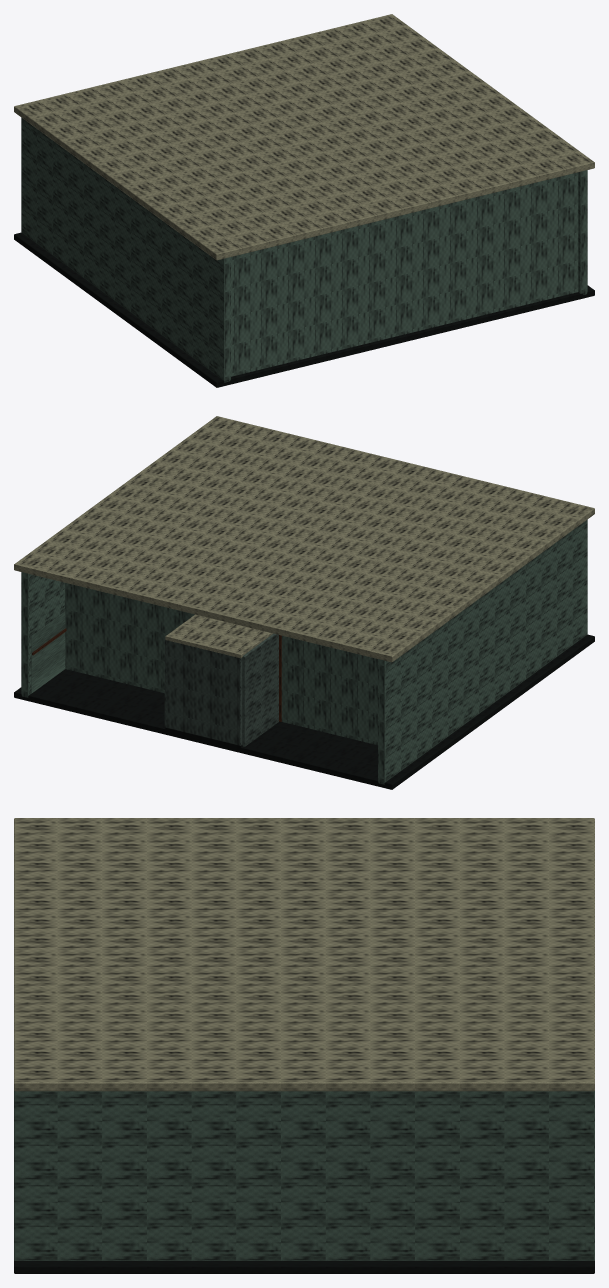
The model's file is entrance-lobby.glb.
The picture shows the model from 3 angles, top to bottom: view 1: azimuth 30°, elevation 25°; view 2: azimuth 150°, elevation 25°; view 3: azimuth 270°, elevation 25°; orthographic projection. The views are drawn at different scales.
Parts seen in each view (by area): view 1: static-152-asylum plaster, static-58-asylum paint, static-163-asylum dark; view 2: static-152-asylum plaster, static-58-asylum paint, static-163-asylum dark, static-17-asylum metal; view 3: static-152-asylum plaster, static-58-asylum paint, static-163-asylum dark.
Part boxes in pixels (x1,y1,x2,y2): static-152-asylum plaster: (14, 14, 594, 260); static-58-asylum paint: (21, 117, 587, 382); static-163-asylum dark: (14, 232, 594, 387); static-152-asylum plaster: (14, 416, 594, 662); static-58-asylum paint: (21, 519, 587, 784); static-163-asylum dark: (14, 634, 594, 789); static-17-asylum metal: (164, 633, 278, 746); static-152-asylum plaster: (14, 818, 594, 1091); static-58-asylum paint: (14, 1091, 594, 1260); static-163-asylum dark: (14, 1261, 594, 1273).
Size of the model in its own units: 14.02 by 4.73 by 13.
15 materials, 9 textured.
